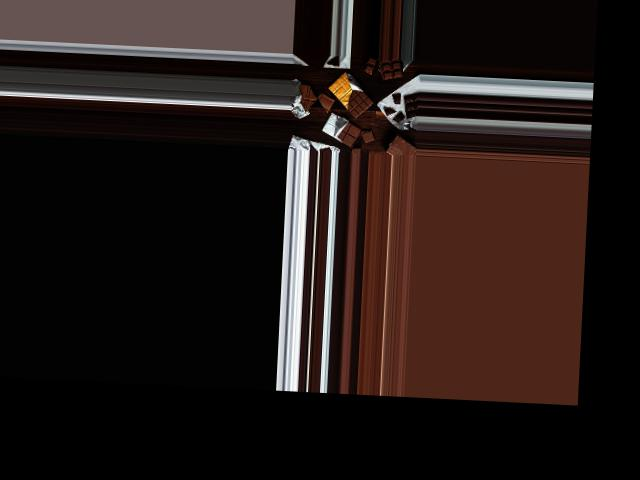chocolate: (323, 111, 361, 150)
